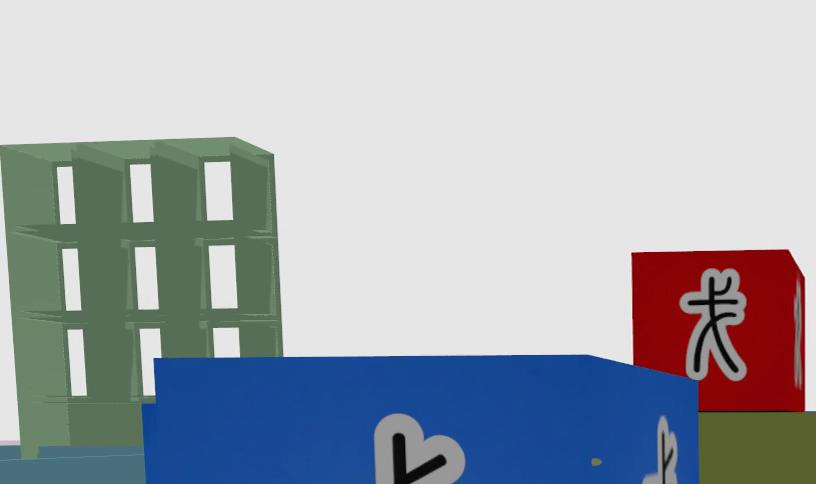KFS_FAKE: (631, 252, 807, 410), (680, 268, 746, 380)
KFS_REAL: (144, 356, 701, 484), (368, 414, 463, 484), (641, 417, 678, 484)
